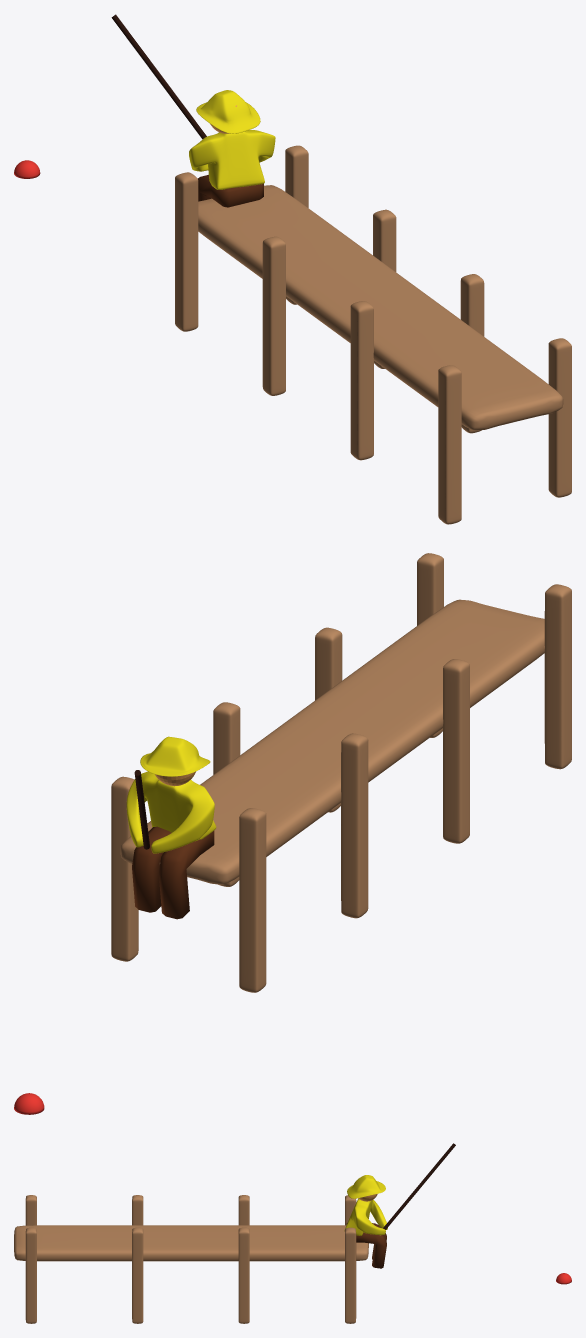
File: dock.glb
3 renders of one model, top to bottom at view 1: azimuth 30°, elevation 25°; view 2: azimuth 150°, elevation 25°; view 3: azimuth 270°, elevation 25°, orthographic. The views are drawn at different scales.
Visible parts, largest first — view 1: base, vertiical_beam, vertiical_beam.001, body, hat, Cube, Cylinder; view 2: base, vertiical_beam, vertiical_beam.001, body, Cube, hat; view 3: base, vertiical_beam.001, vertiical_beam, body, Cube, hat, Cylinder.
Part boxes in pixels (left/top/right/bottom): base: left=198, top=185, right=563, bottom=430; vertiical_beam: left=175, top=172, right=461, bottom=524; vertiical_beam.001: left=285, top=145, right=571, bottom=497; body: left=189, top=130, right=275, bottom=189; hat: left=196, top=90, right=260, bottom=133; Cube: left=198, top=175, right=263, bottom=207; Cylinder: left=111, top=14, right=206, bottom=139; base: left=120, top=599, right=544, bottom=884; vertiical_beam: left=239, top=584, right=571, bottom=992; vertiical_beam.001: left=111, top=553, right=443, bottom=961; body: left=126, top=771, right=216, bottom=853; Cube: left=132, top=826, right=214, bottom=919; hat: left=140, top=736, right=210, bottom=776; base: left=14, top=1225, right=368, bottom=1261; vertiical_beam.001: left=25, top=1227, right=356, bottom=1323; vertiical_beam: left=25, top=1195, right=356, bottom=1225; body: left=344, top=1198, right=387, bottom=1235; Cube: left=346, top=1223, right=386, bottom=1268; hat: left=347, top=1175, right=385, bottom=1198; Cylinder: left=383, top=1143, right=455, bottom=1229.
Bounding box in the file's own units: 0.7398 × 1.39 × 4.67.
